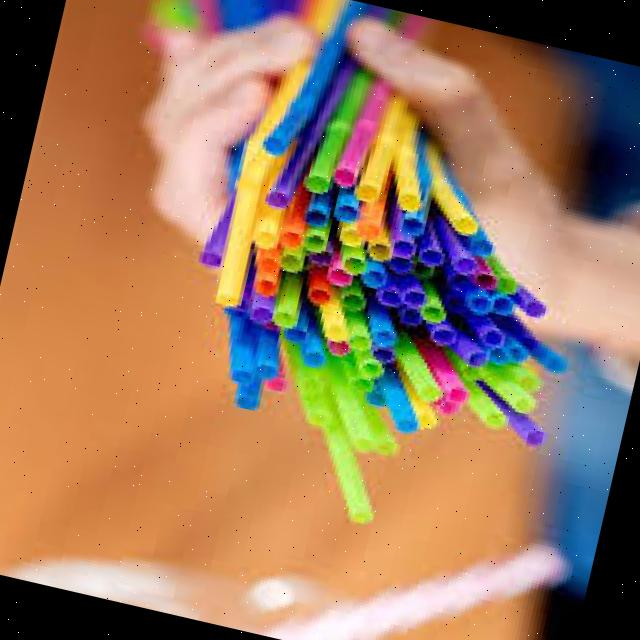plastic: (244, 0, 381, 178)
